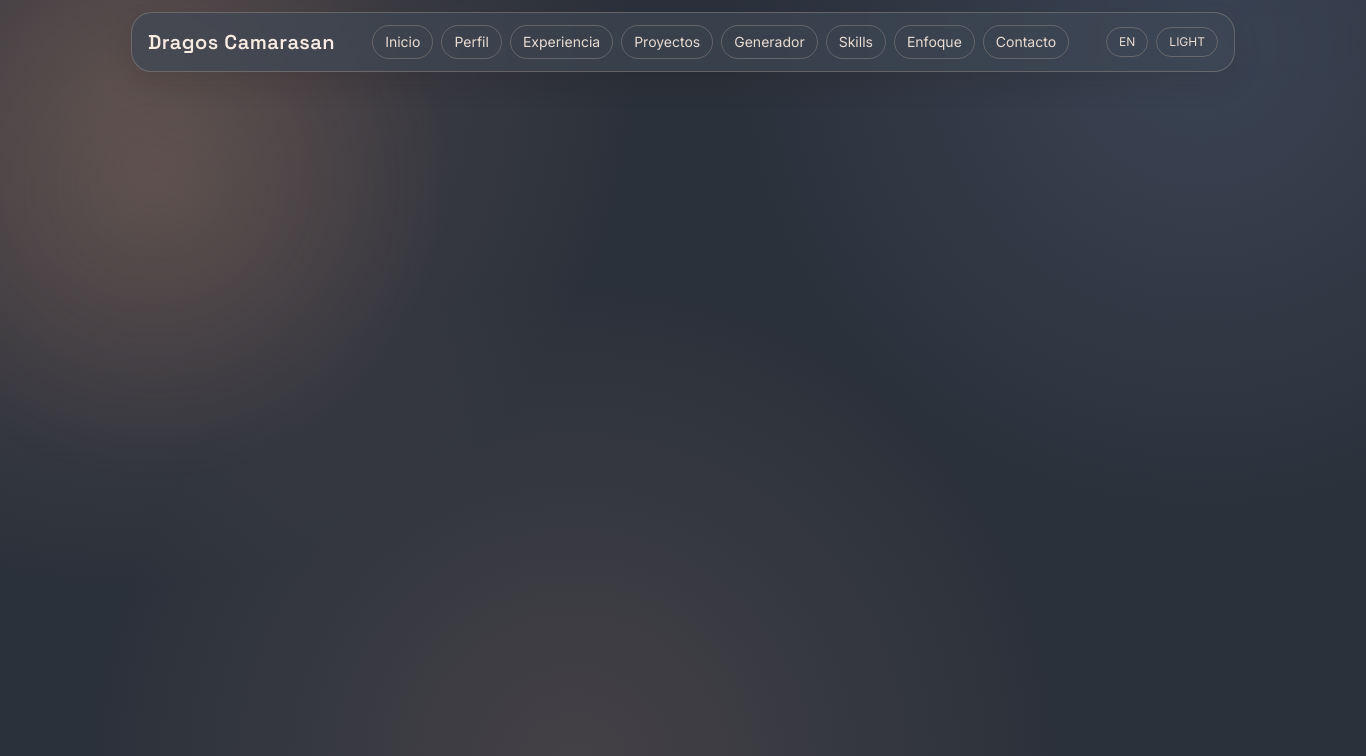
Scenario: App › switches locale to English and persists preference
The image size is (1366, 756).
Click the button with test id "locale-toggle": (1127, 42) x1=1106 y1=27 x2=1148 y2=57
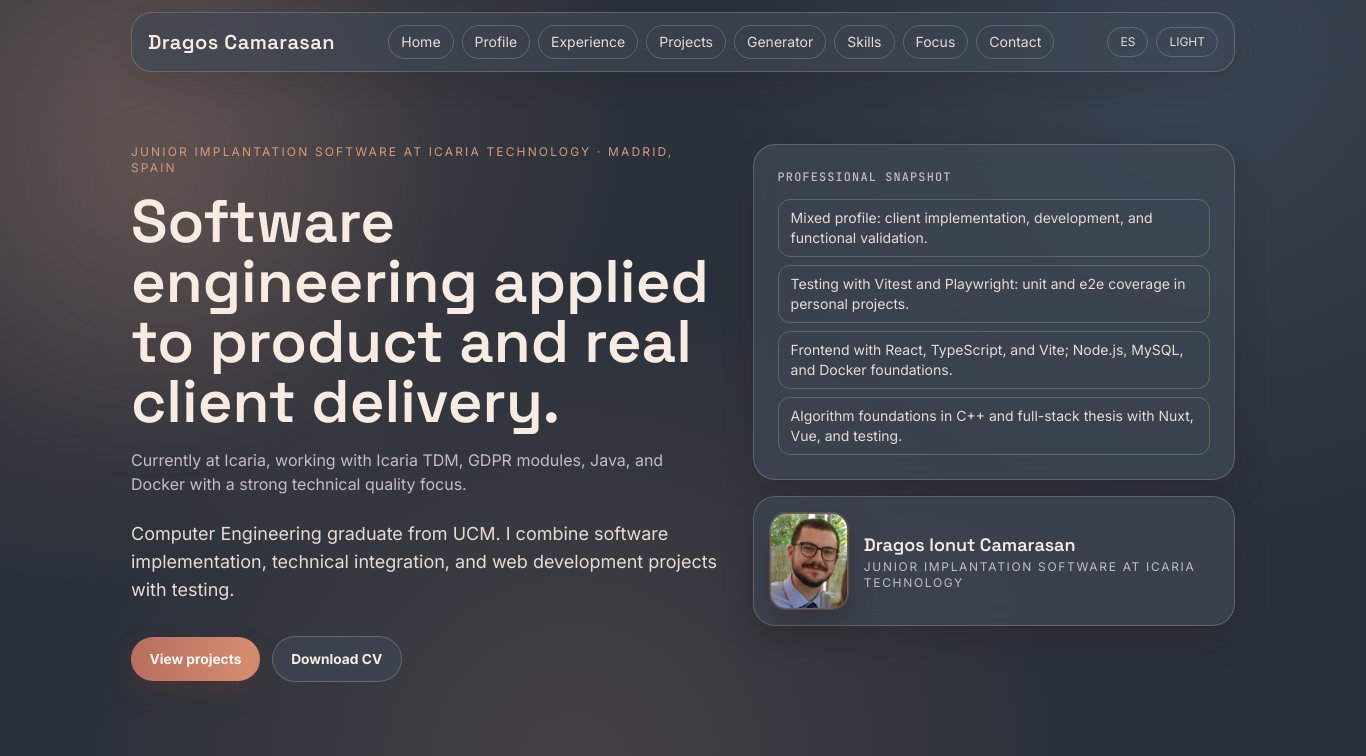
Now the heading "Software engineering applied to product and real client delivery" is shown, box x1=131 y1=192 x2=721 y2=432
